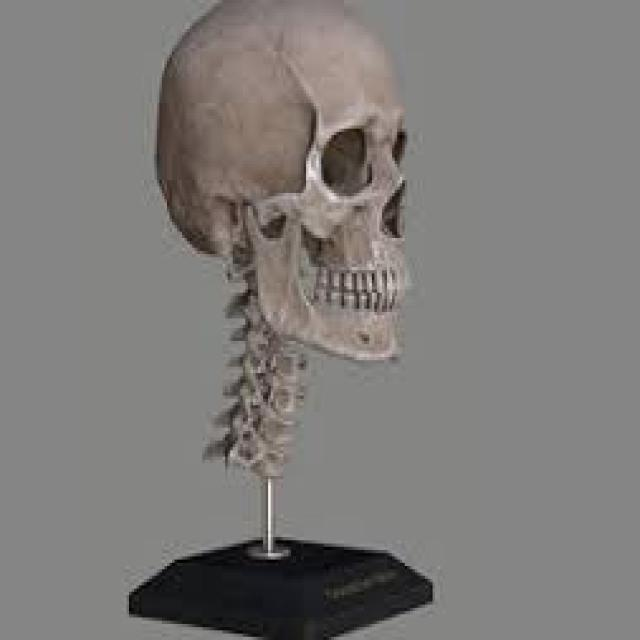skull: (148, 0, 422, 368)
